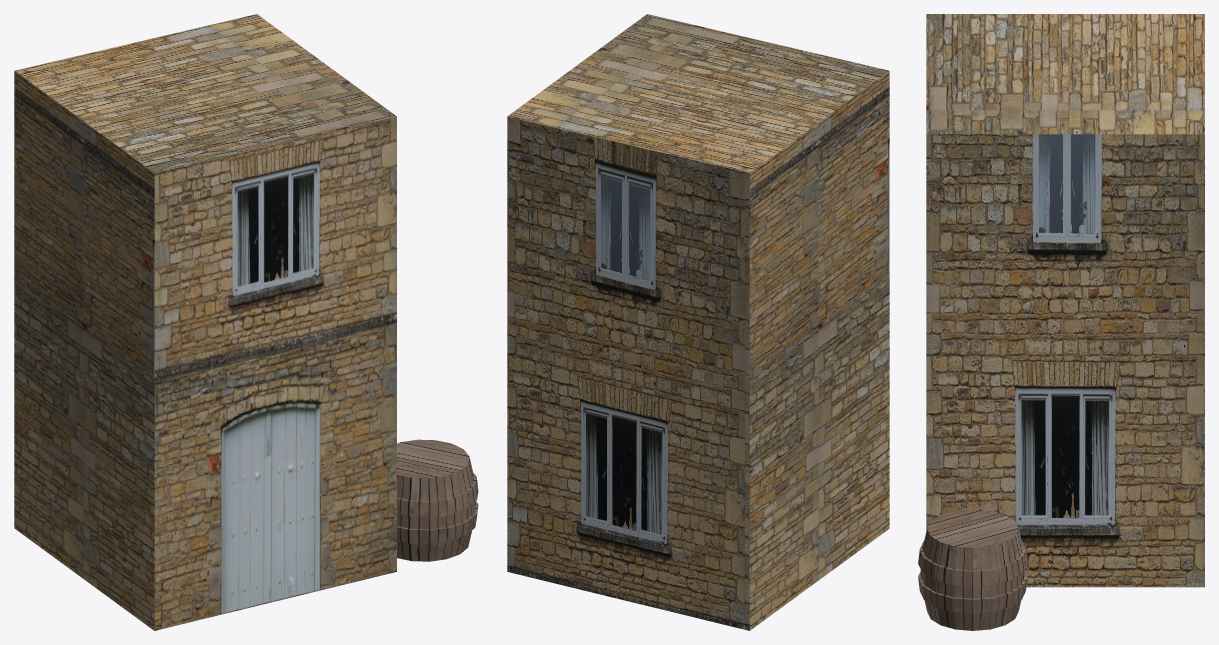
File: UV Mapping.fbx
3 renders of one model, left to right at view 1: azimuth 30°, elevation 25°; view 2: azimuth 150°, elevation 25°; view 3: azimuth 270°, elevation 25°, orthographic.
Visible parts, largest first — view 1: Cube, Cylinder; view 2: Cube; view 3: Cube, Cylinder.
Part boxes in pixels (x1,y1,x2,y2): Cube: [14, 14, 396, 630]; Cylinder: [397, 439, 478, 561]; Cube: [507, 14, 889, 630]; Cube: [926, 14, 1204, 587]; Cylinder: [918, 509, 1027, 630].
Bounding box in the file's own units: 281 × 361 × 206.
2 materials, 2 textured.
